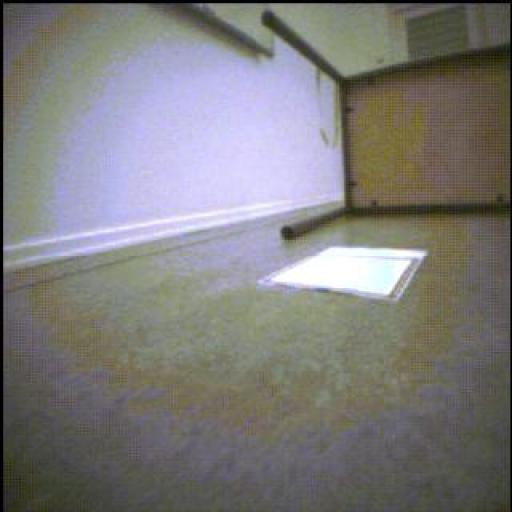Pad: (260, 247, 428, 302)
